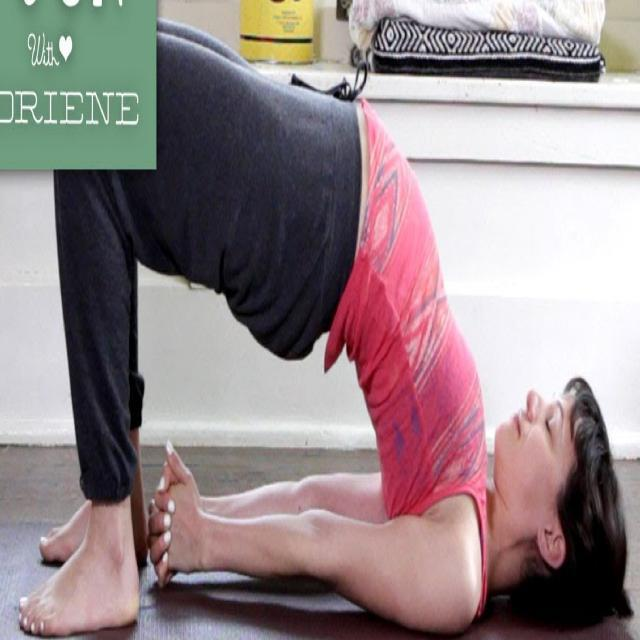yoga-pose bridge: (44, 29, 630, 633)
